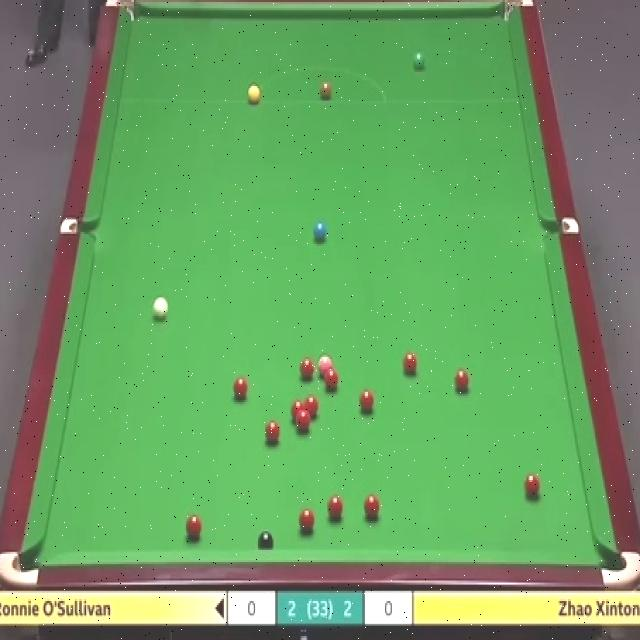black-ball: (257, 532, 274, 550)
blue-ball: (312, 218, 327, 244)
brown-ball: (319, 81, 332, 100)
green-ball: (411, 52, 426, 71)
pink-ball: (319, 355, 333, 378)
red-ball: (524, 470, 542, 500), (402, 350, 418, 379), (185, 513, 202, 540), (233, 378, 250, 404), (364, 493, 380, 520), (453, 368, 471, 392), (328, 495, 343, 521), (359, 388, 374, 414), (300, 508, 315, 533), (265, 420, 280, 444), (305, 396, 319, 421), (324, 368, 339, 390), (300, 360, 314, 380), (297, 412, 310, 433), (292, 400, 304, 420)
white-ball: (151, 293, 169, 322)
yellow-ball: (247, 83, 260, 104)
